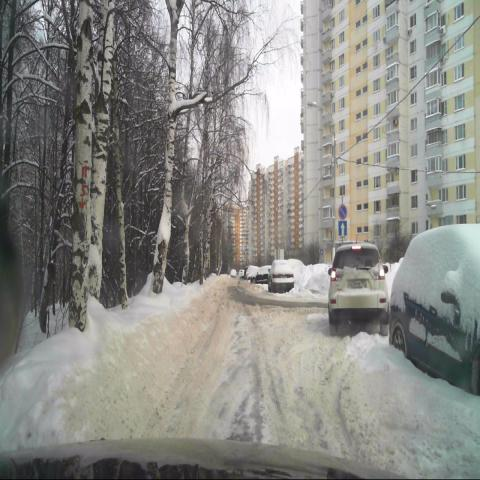3_28: (338, 203, 347, 220)
5_5: (338, 220, 347, 237)
